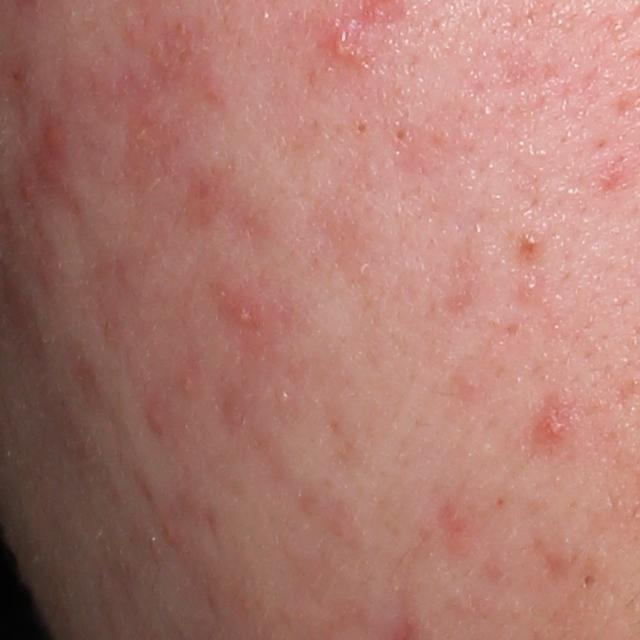comedo: (323, 16, 367, 64), (393, 125, 410, 147), (580, 573, 598, 590), (355, 121, 369, 137)
papule: (535, 405, 573, 448), (45, 124, 65, 160), (146, 403, 165, 432), (162, 520, 180, 543), (19, 177, 36, 201)
